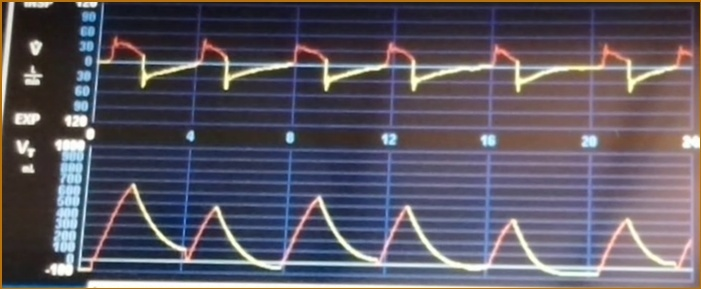Normal Flow: (103, 20, 691, 123)
Normal Volume: (86, 179, 690, 277)
